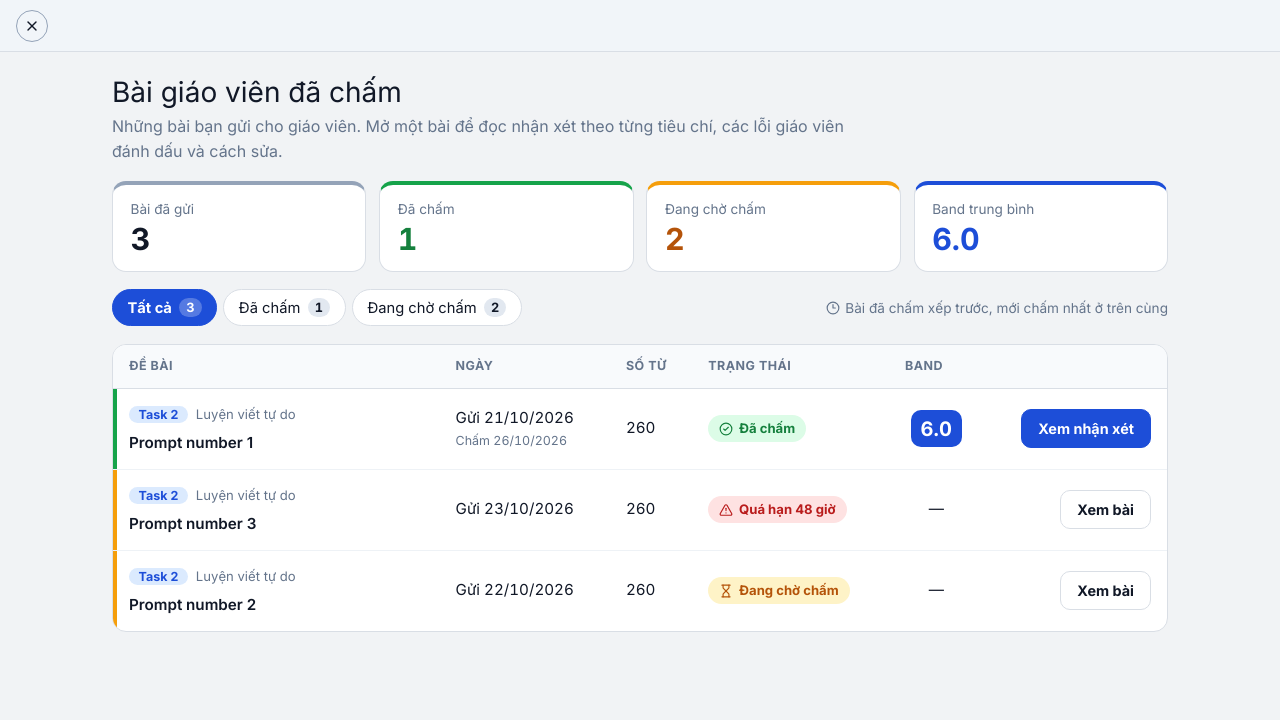
Test case: the list a "your essay was graded" notice opens › filters by graded and waiting, with the counts on the buttons
The image size is (1280, 720).
Check: the table is shown, box [113,345,1167,630]
Click the button "Đã chấm 1": (285, 308) [224,289,346,326]
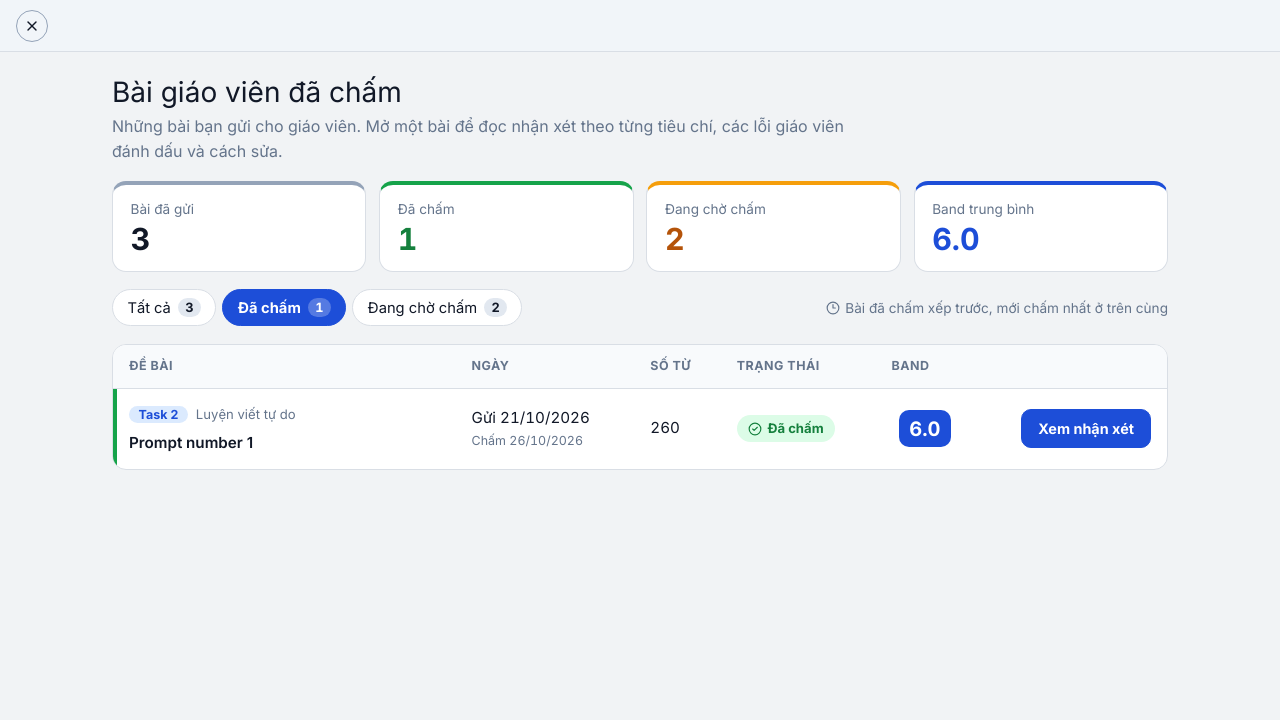
Click the button "Đang chờ chấm 2": (437, 308) [352,289,522,326]
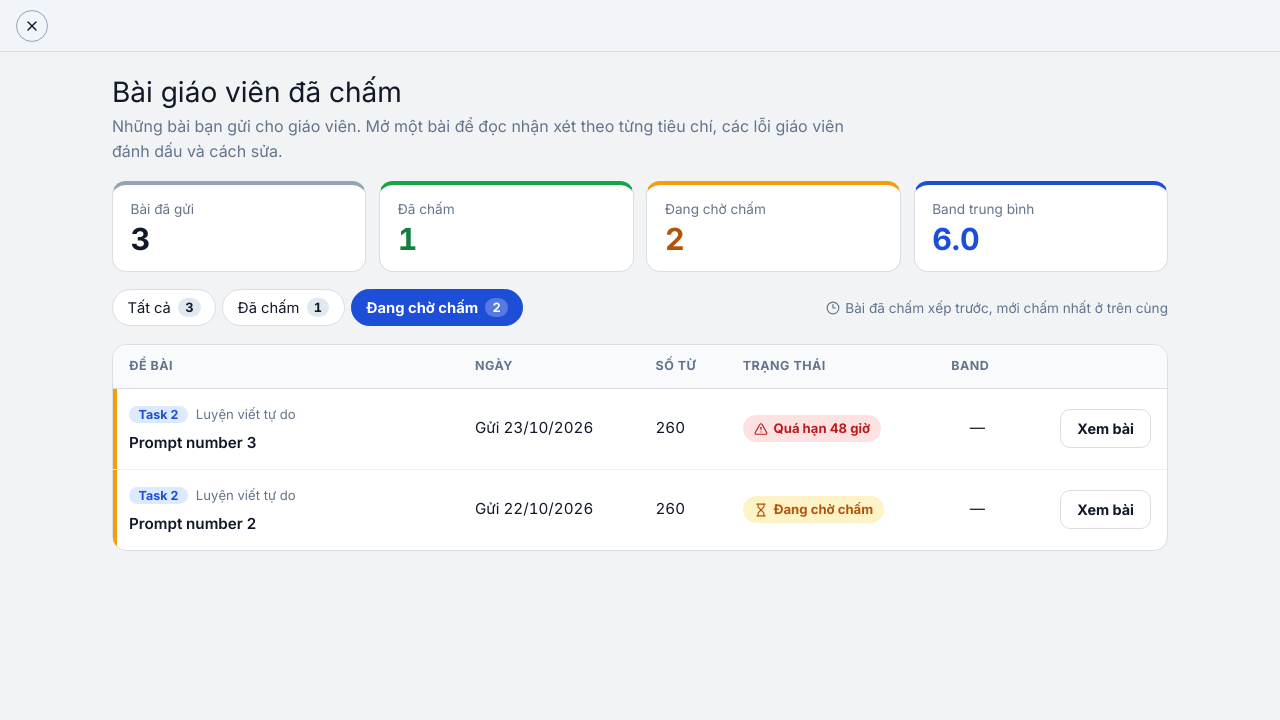
Check: the text "Quá hạn 48 giờ" is shown, box [743,415,881,442]
